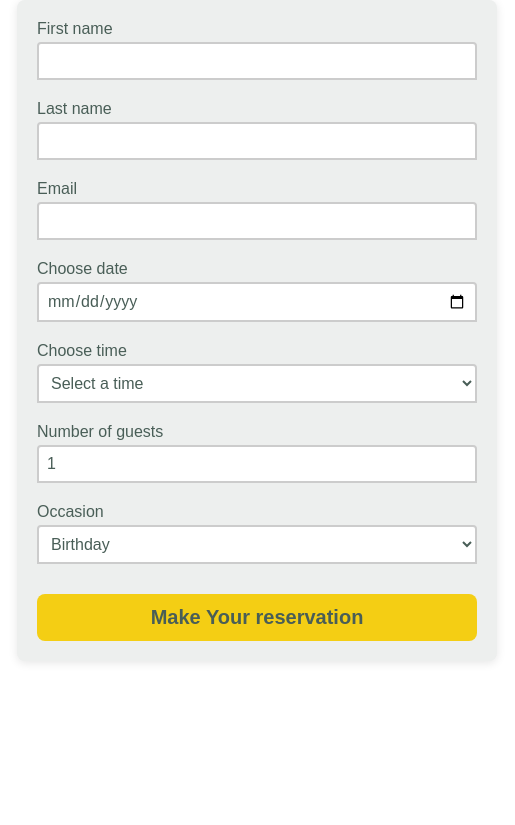
Test: JavaScript Validation Functions › Guests Validation › shows error for guests more than 10
Replace the text in the number field labelled "Number of guests" with "11" at [257, 464], box [37, 445, 477, 483]
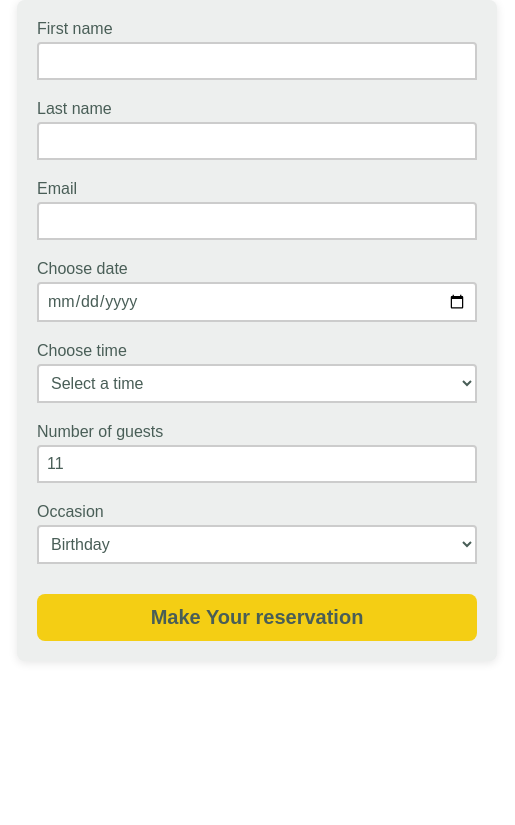
Leave the number field labelled "Number of guests", box [37, 445, 477, 483]
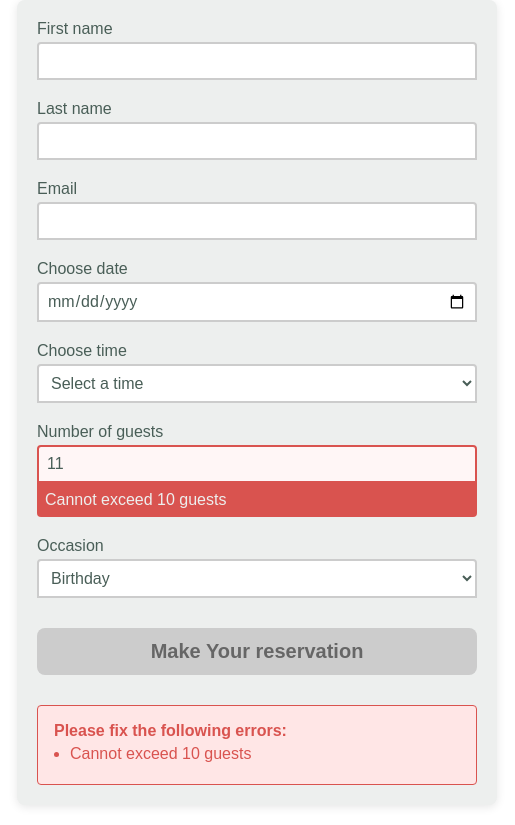
expect the text "Cannot exceed 10 guests" is shown 2 times: met, box [37, 483, 477, 517]; [70, 745, 252, 762]
